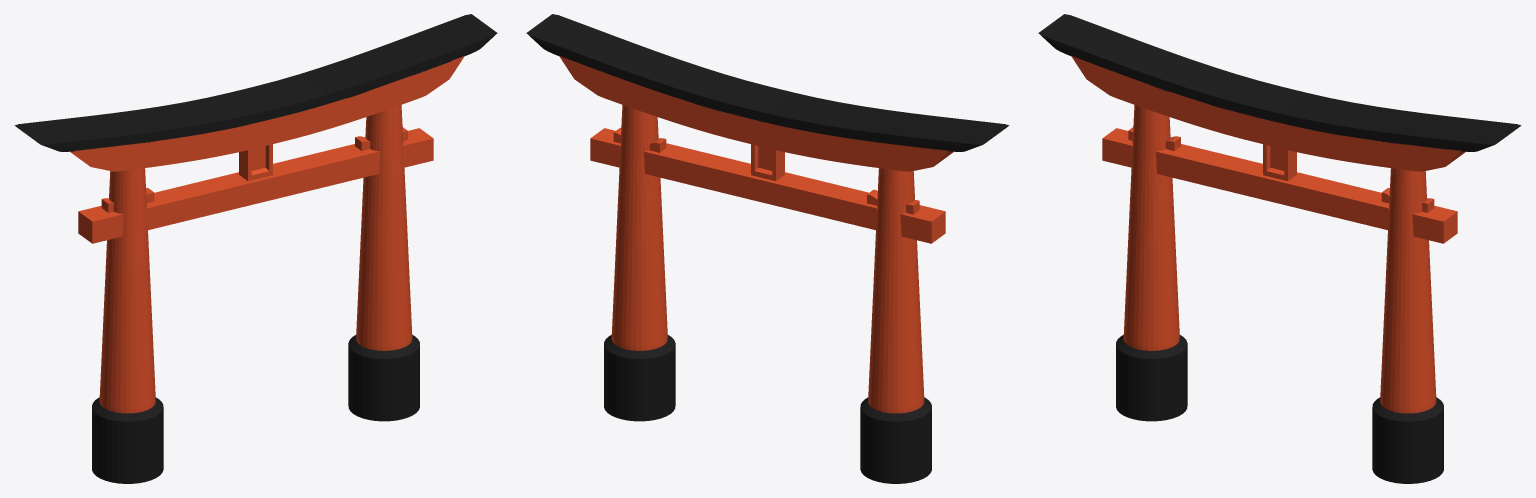
File: Toori Gate.fbx
3 renders of one model, left to right at view 1: azimuth 30°, elevation 25°; view 2: azimuth 150°, elevation 25°; view 3: azimuth 330°, elevation 25°, orthographic.
Visible parts, largest first — view 1: Tori gate; view 2: Tori gate; view 3: Tori gate.
Boxes of the visible parts, left/top/right/bottom form: Tori gate: left=14, top=14, right=497, bottom=483; Tori gate: left=526, top=14, right=1009, bottom=483; Tori gate: left=1038, top=14, right=1521, bottom=483.
Size of the model in its own units: 4081 by 3056 by 555.
